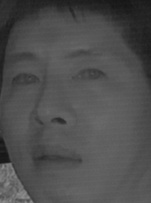eye: (72, 61, 108, 84), (10, 70, 41, 88)
mouth: (27, 140, 82, 177)
